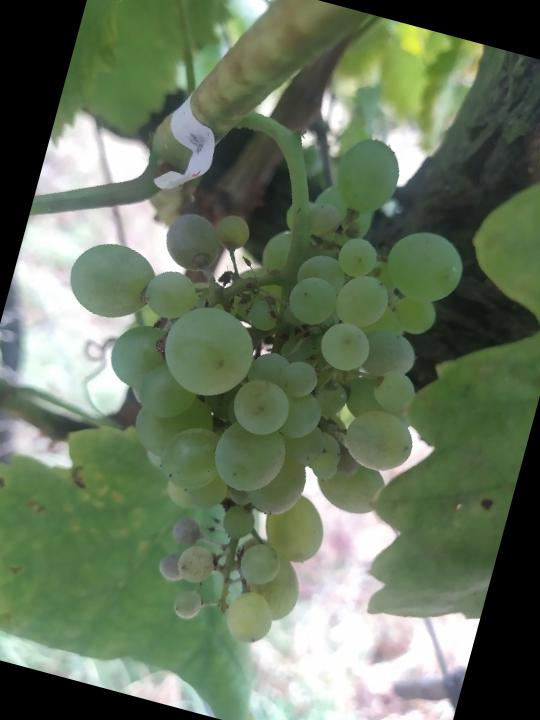grape: (0, 65, 496, 681)
